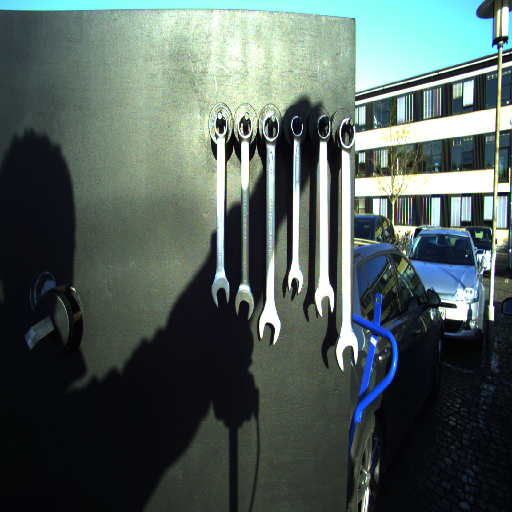bottom: (334, 330, 359, 376), (257, 309, 282, 346), (311, 284, 335, 317), (208, 276, 230, 308), (234, 291, 255, 319), (284, 268, 304, 295)
top: (336, 112, 356, 159), (260, 112, 282, 145), (234, 112, 256, 143), (315, 112, 332, 146), (212, 113, 231, 142), (289, 112, 306, 142)
